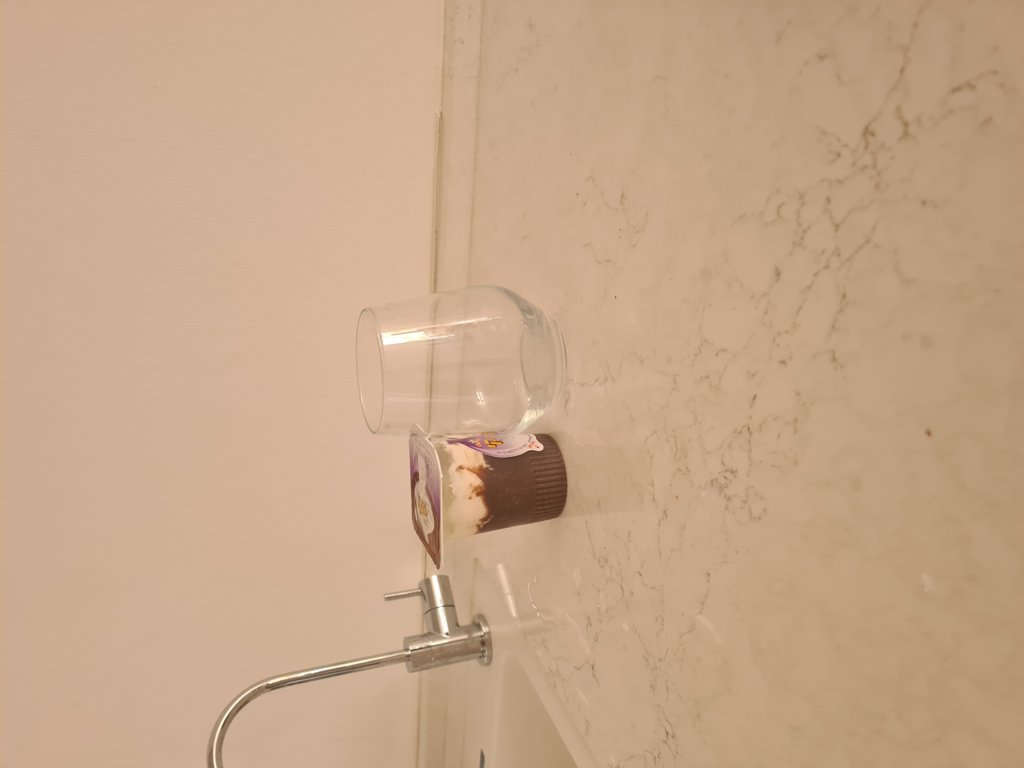milky: (408, 417, 562, 549)
